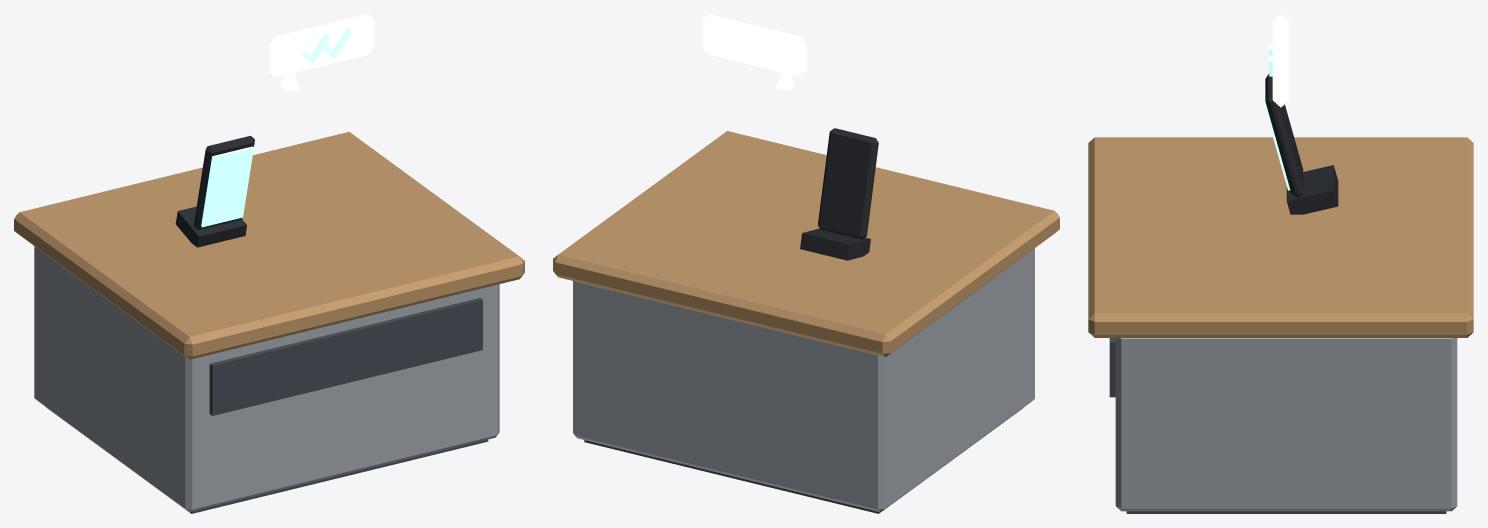
File: quickreply_p0_3.glb
3 renders of one model, left to right at view 1: azimuth 30°, elevation 25°; view 2: azimuth 150°, elevation 25°; view 3: azimuth 270°, elevation 25°, orthographic. The views are drawn at different scales.
Parts seen in each view (by area): view 1: quickreply_p0_3_mesh_Desk, quickreply_p0_3_mesh; view 2: quickreply_p0_3_mesh_Desk, quickreply_p0_3_mesh; view 3: quickreply_p0_3_mesh_Desk, quickreply_p0_3_mesh.
Boxes of the visible parts, box(x1,y1,x2,y2) form: quickreply_p0_3_mesh_Desk: box(14, 132, 524, 513); quickreply_p0_3_mesh: box(175, 14, 374, 247); quickreply_p0_3_mesh_Desk: box(553, 131, 1059, 513); quickreply_p0_3_mesh: box(702, 14, 878, 260); quickreply_p0_3_mesh_Desk: box(1088, 137, 1473, 513); quickreply_p0_3_mesh: box(1264, 14, 1338, 214).
Size of the model in its own units: 0.78 by 0.85 by 0.7.
